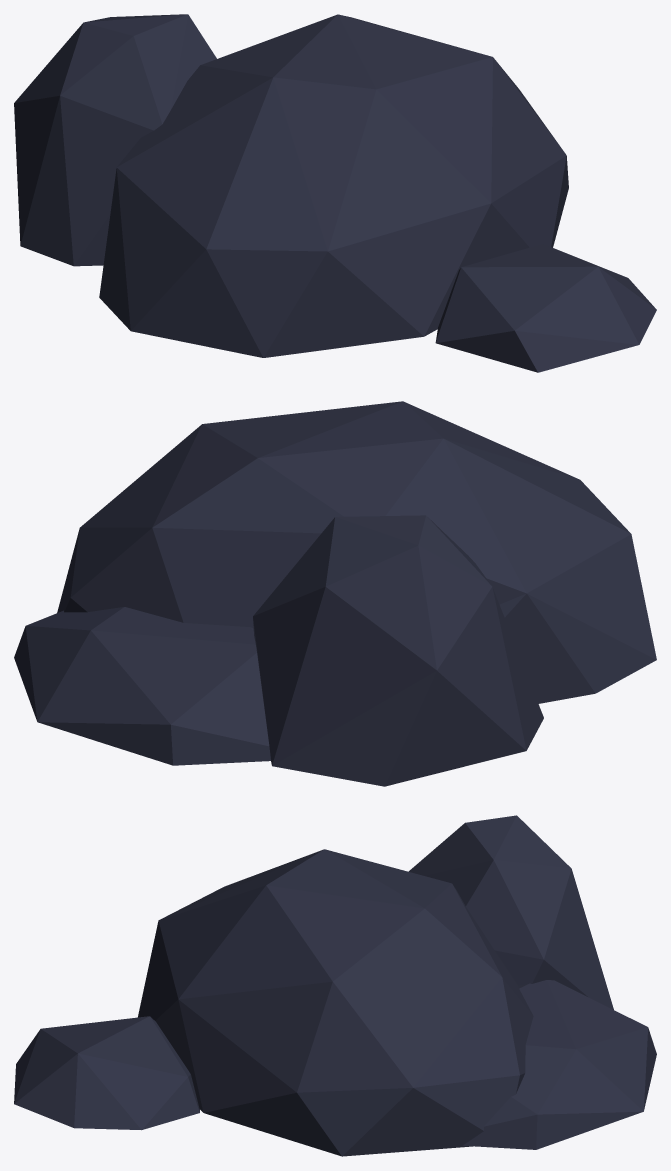
Rendered from SM_EN_Rocks_Medium_Lvl3.fbx.
3 views of the same model, one above another, from view 1: azimuth 30°, elevation 25°; view 2: azimuth 150°, elevation 25°; view 3: azimuth 270°, elevation 25° (orthographic). The views are drawn at different scales.
Parts seen in each view (by area): view 1: Medium Rocks_Lvl3; view 2: Medium Rocks_Lvl3; view 3: Medium Rocks_Lvl3.
Boxes of the visible parts, <box> form: Medium Rocks_Lvl3: <box>14,14,656,372</box>; Medium Rocks_Lvl3: <box>14,401,656,786</box>; Medium Rocks_Lvl3: <box>14,815,656,1156</box>.
Bounding box in the file's own units: 198 × 256 × 76.49.
